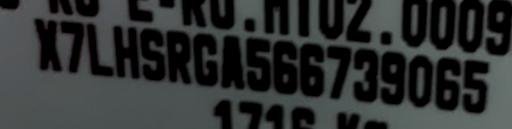letter: (462, 56, 492, 117), (137, 24, 167, 83), (164, 26, 194, 85), (432, 54, 462, 113), (84, 21, 116, 76), (218, 32, 246, 91), (244, 34, 272, 93), (270, 37, 298, 96), (324, 43, 352, 102), (33, 17, 63, 72), (111, 24, 141, 79), (190, 32, 220, 87), (296, 42, 326, 97), (352, 48, 380, 103), (379, 50, 407, 105), (406, 53, 434, 108), (58, 20, 84, 75)
